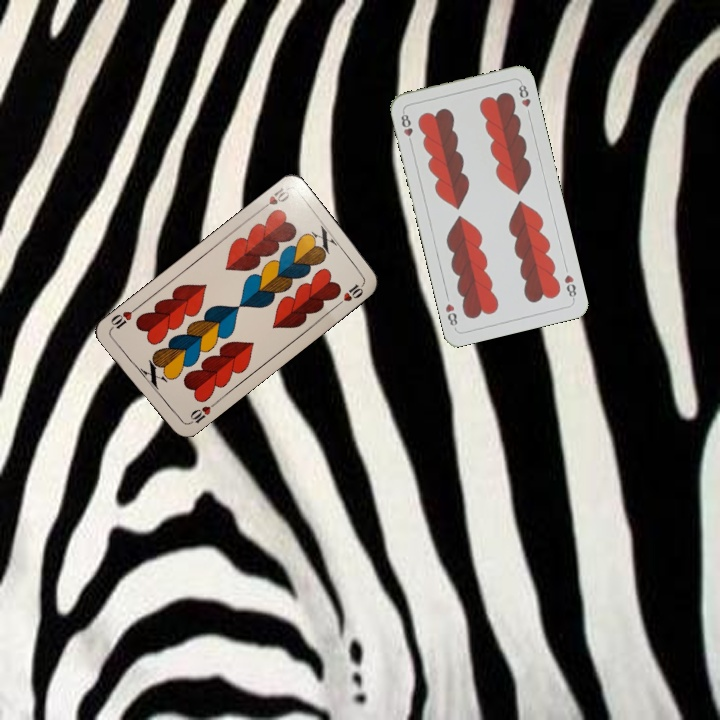H10: (255, 183, 293, 214), (184, 398, 219, 427)
H8: (397, 108, 415, 148), (560, 271, 579, 303)
